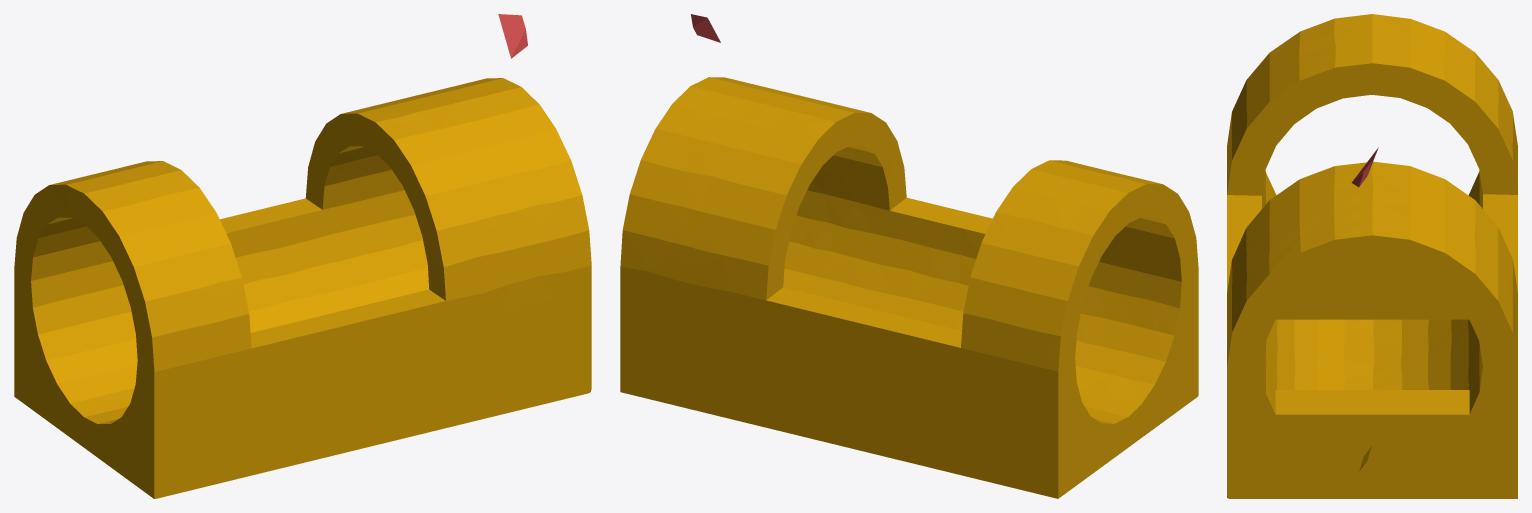
The model's file is fractured_24_2pcs_transformed.glb.
3 views of the same model, side by side, from view 1: azimuth 30°, elevation 25°; view 2: azimuth 150°, elevation 25°; view 3: azimuth 270°, elevation 25° (orthographic). The views are drawn at different scales.
Visible parts, largest first — view 1: piece_0.obj, piece_1.obj; view 2: piece_0.obj; view 3: piece_0.obj.
Part boxes in pixels (x1,y1,x2,y2): piece_0.obj: (14, 78, 591, 498); piece_1.obj: (498, 14, 527, 58); piece_0.obj: (620, 77, 1198, 498); piece_0.obj: (1227, 14, 1517, 498).
Bounding box in the file's own units: 1 × 0.7209 × 0.5555.
